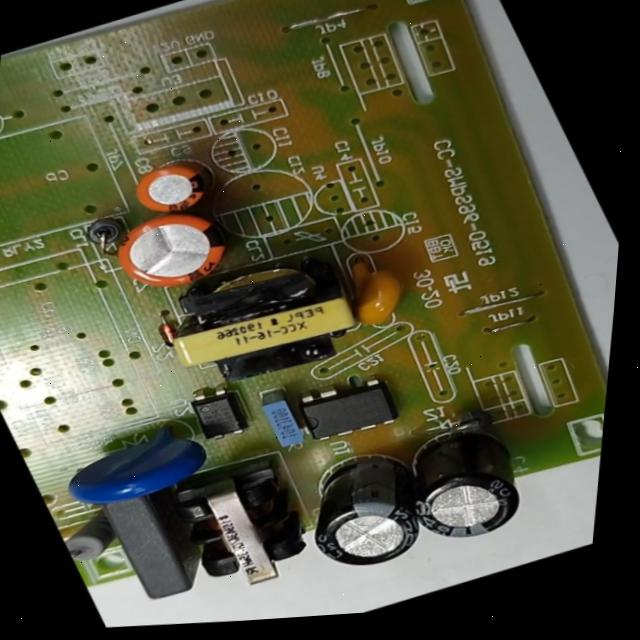Cap1: (84, 189, 257, 310)
Cap2: (108, 142, 238, 233)
Cap3: (266, 432, 461, 588)
Cap4: (365, 399, 565, 560)
MOSFET: (280, 361, 417, 453)
Mov: (31, 406, 233, 528)
Resistor: (49, 497, 142, 568)
Transformer: (128, 232, 400, 407), (142, 443, 344, 613)
